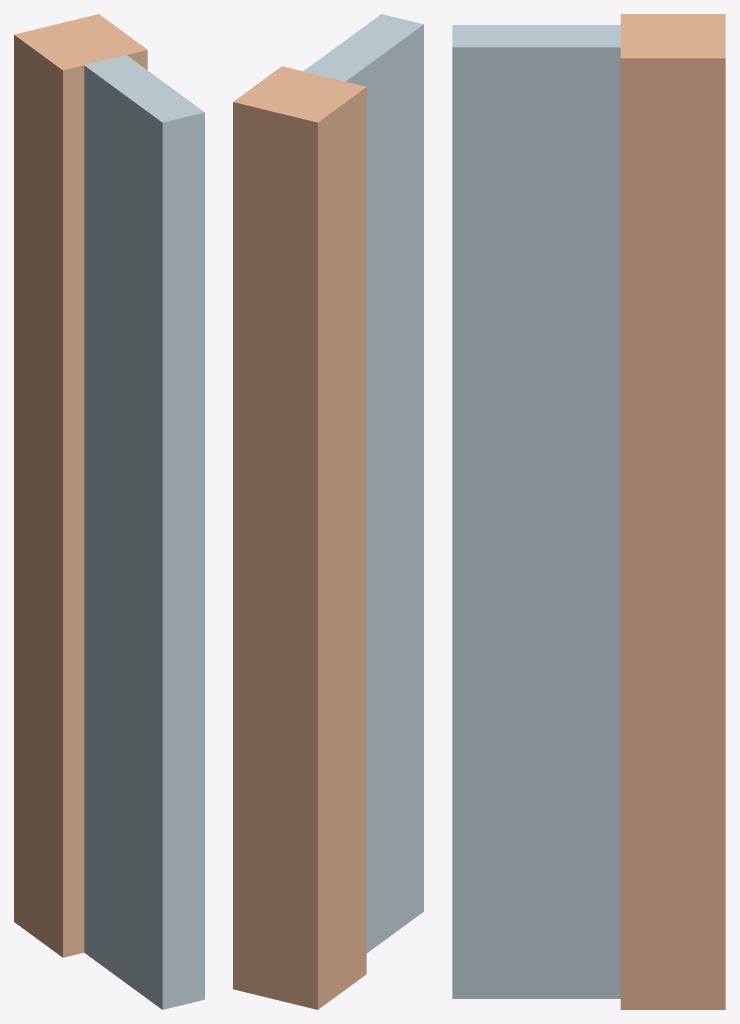
The model's file is wallSide.glb.
3 views of the same model, side by side, from view 1: azimuth 30°, elevation 25°; view 2: azimuth 150°, elevation 25°; view 3: azimuth 270°, elevation 25° (orthographic). The views are drawn at different scales.
Visible parts, largest first — view 1: wallSide; view 2: wallSide; view 3: wallSide.
Boxes of the visible parts, x1,y1,x2,y2 form: wallSide: (14,14,204,1009); wallSide: (233,14,423,1009); wallSide: (452,14,725,1009).
Bounding box in the file's own units: 0.1 × 1 × 0.26.
